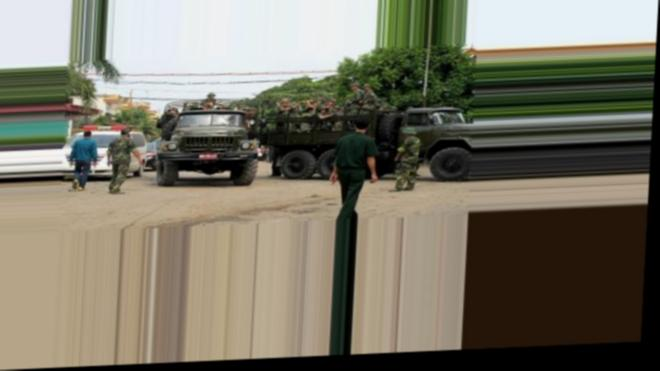License_Plate: (197, 152, 218, 161)
